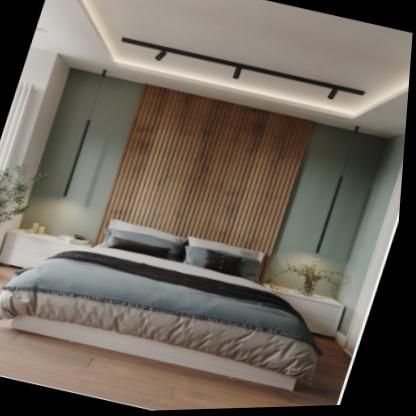Bed: (0, 223, 328, 387)
Wall Panel: (100, 87, 315, 257)
Wooden floor: (0, 320, 356, 412)
